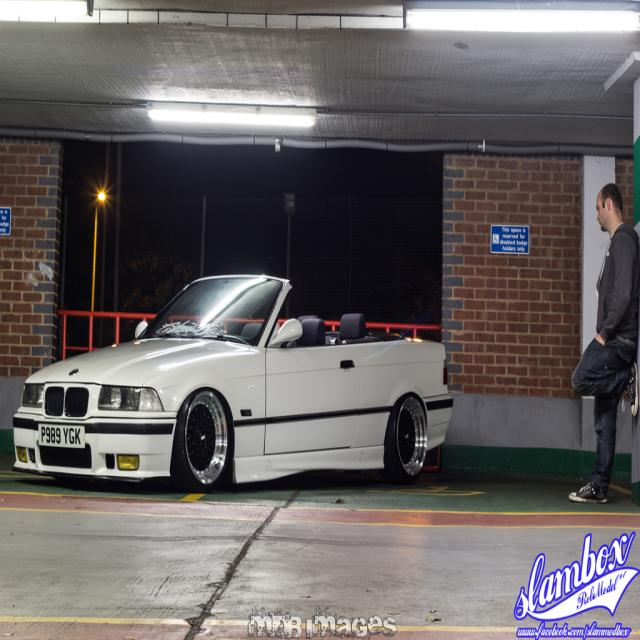car: (11, 273, 453, 490)
